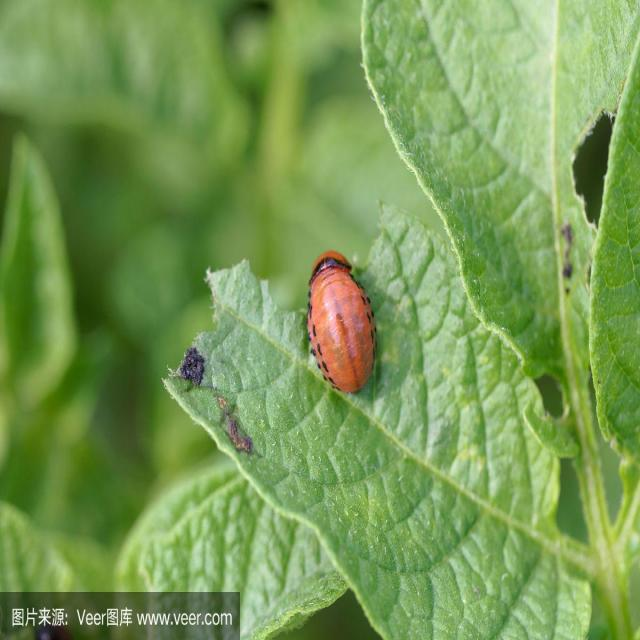ShuCaiHuaBanChong-Larva-: (300, 246, 384, 398)
